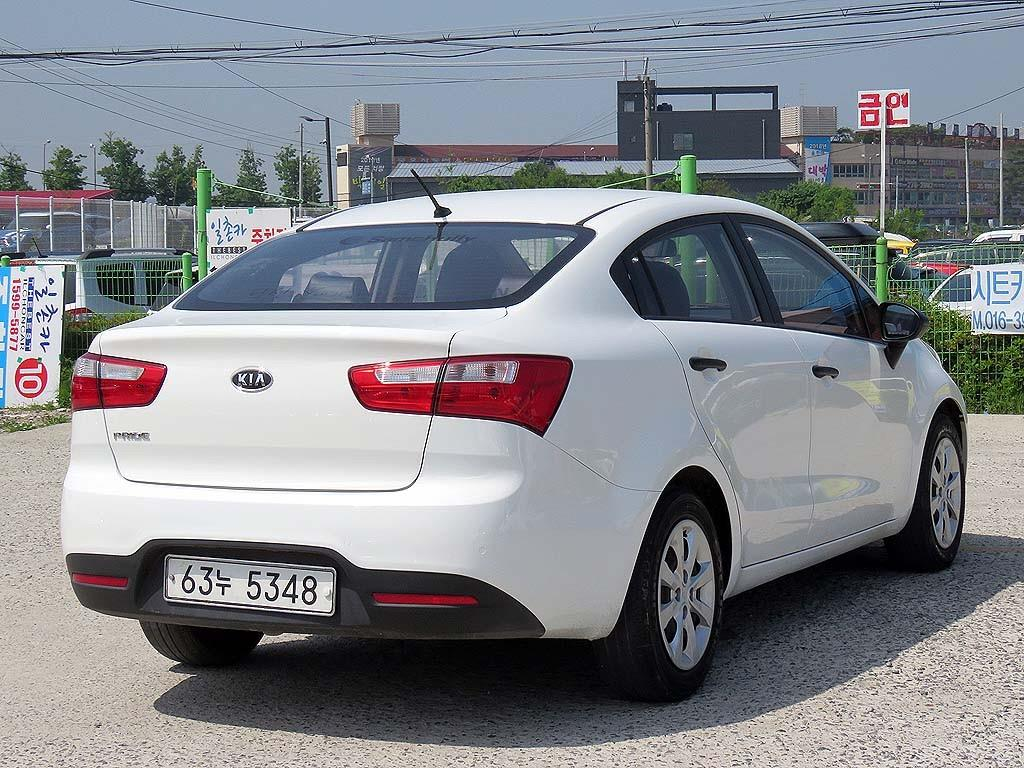plate: (166, 558, 334, 613)
